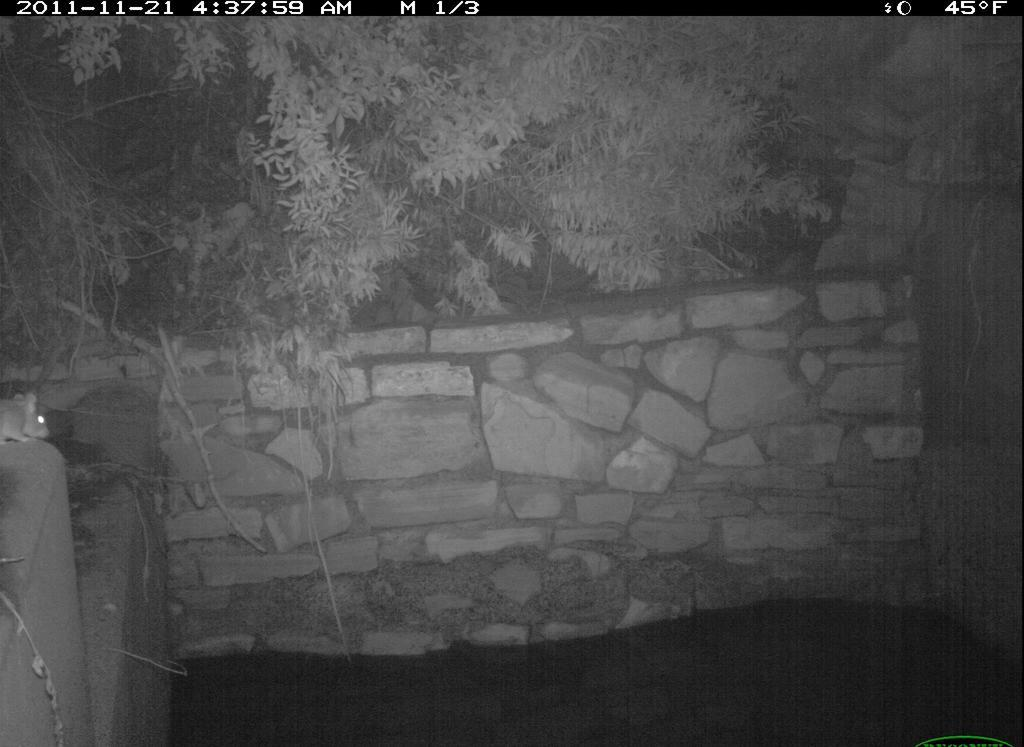rodent: (1, 385, 58, 453)
